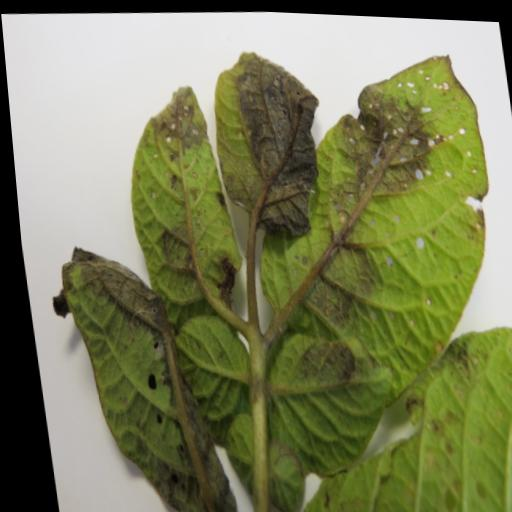Early Blight: (201, 31, 512, 498), (251, 302, 512, 512), (35, 238, 223, 512), (111, 72, 248, 335), (198, 40, 331, 246)
